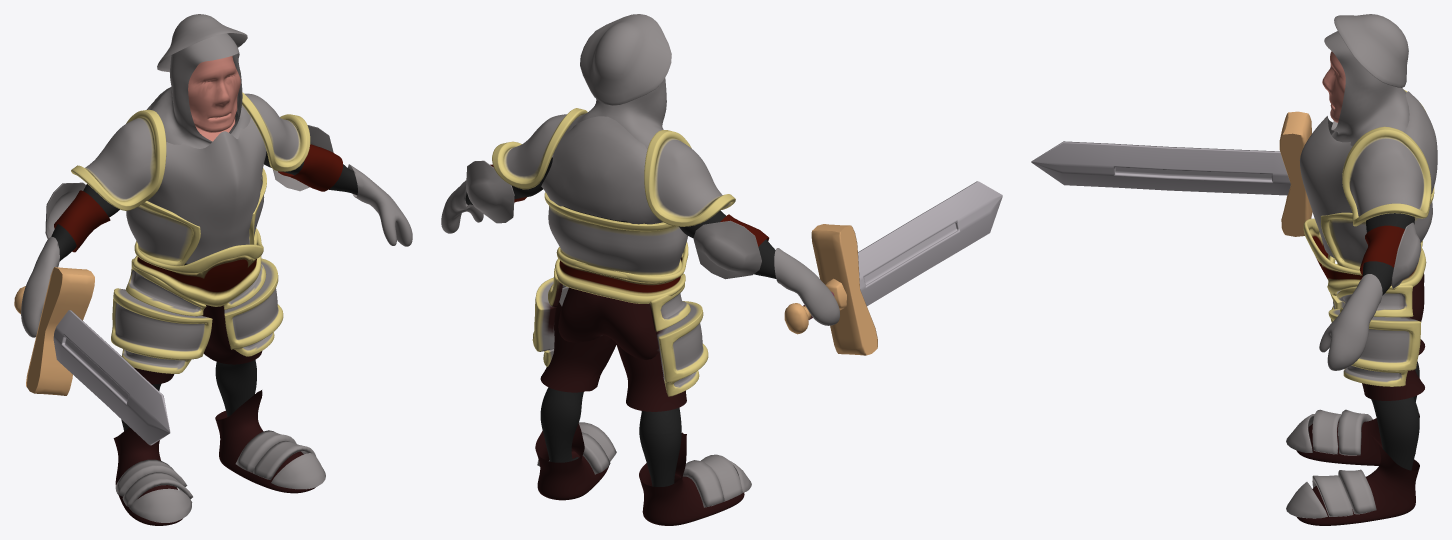
File: CH_Hero_Melee.fbx
3 renders of one model, left to right at view 1: azimuth 30°, elevation 25°; view 2: azimuth 150°, elevation 25°; view 3: azimuth 270°, elevation 25°, orthographic.
Parts seen in each view (by area): view 1: Merged_male_zbrush1_4; view 2: Merged_male_zbrush1_4; view 3: Merged_male_zbrush1_4.
Part boxes in pixels (x1,y1,x2,y2): Merged_male_zbrush1_4: (14,14,412,525); Merged_male_zbrush1_4: (441,14,1002,525); Merged_male_zbrush1_4: (1031,14,1437,525).
Bounding box in the file's own units: 173 × 193 × 152.
